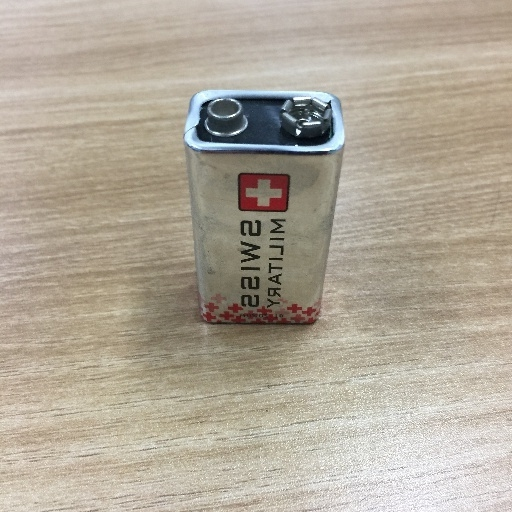Battery_3: (172, 72, 351, 343)
